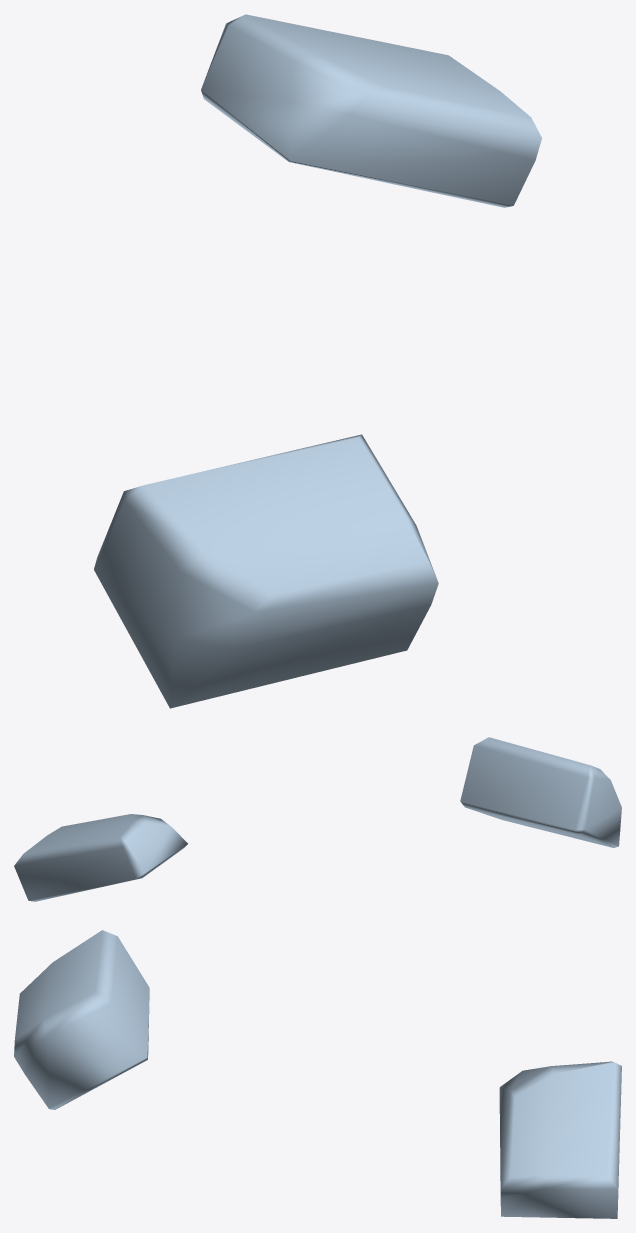
The model's file is Rubble_03C_Lod0.fbx.
The picture shows the model from 3 angles, top to bottom: view 1: azimuth 30°, elevation 25°; view 2: azimuth 150°, elevation 25°; view 3: azimuth 270°, elevation 25°; orthographic projection. The views are drawn at different scales.
Parts seen in each view (by area): view 1: Rubble_03C_Lod0; view 2: Rubble_03C_Lod0; view 3: Rubble_03C_Lod0.
Boxes of the visible parts, bbox=[...] form: Rubble_03C_Lod0: bbox=[94, 14, 541, 708]; Rubble_03C_Lod0: bbox=[14, 737, 621, 901]; Rubble_03C_Lod0: bbox=[14, 930, 621, 1218].
Size of the model in its own units: 132 by 38.1 by 152.
